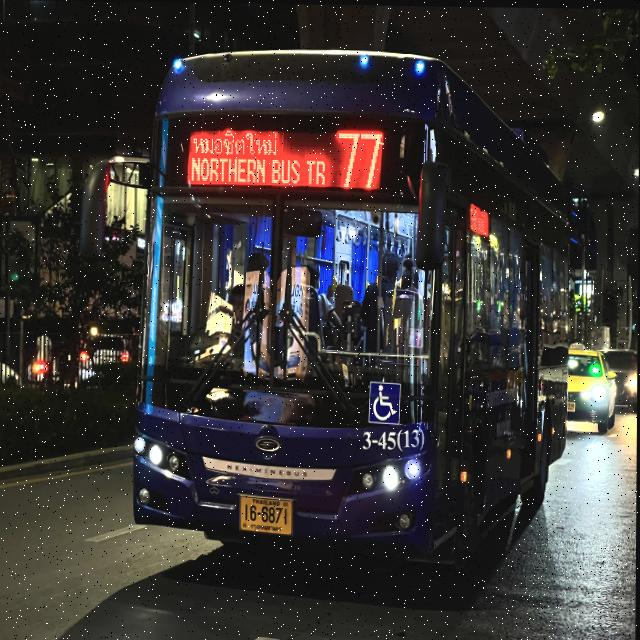Bus-Line-Number: (334, 125, 384, 195)
Destination-Sign-Normal: (191, 123, 330, 190)
TSB-Bus: (126, 34, 575, 573)
